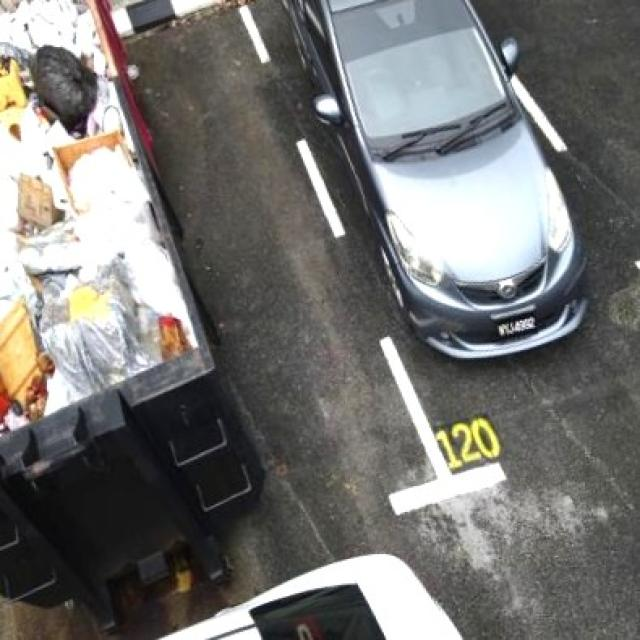Legalparking: (244, 0, 637, 378)
illegalparking: (130, 536, 496, 640)
